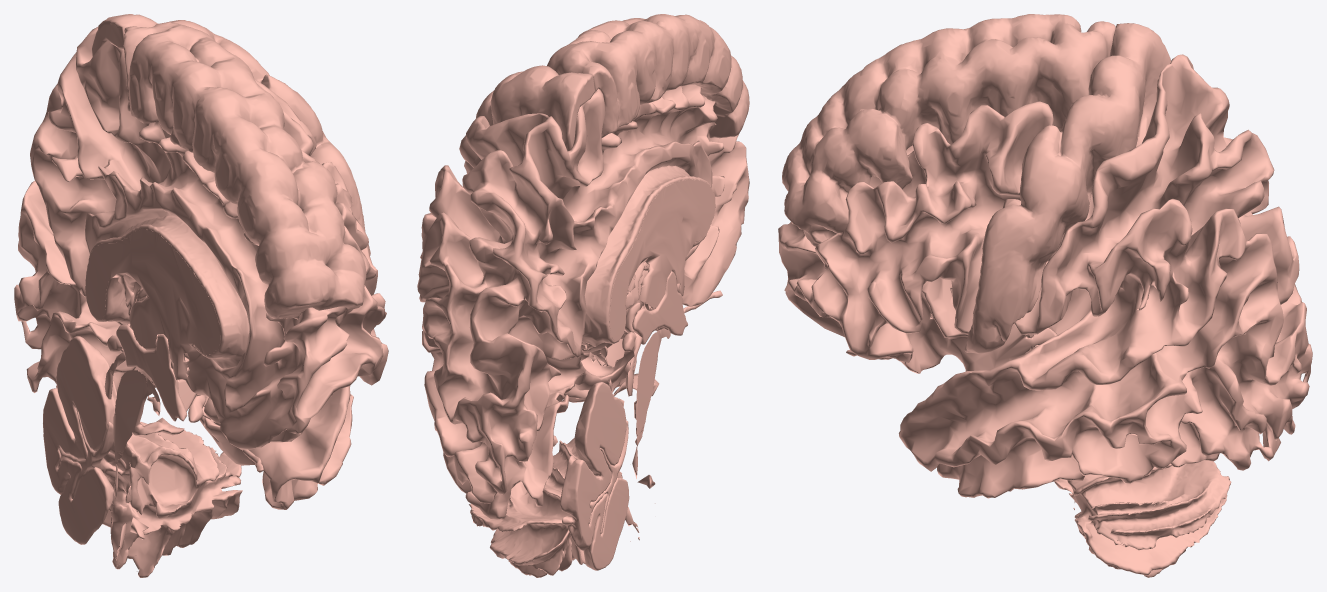
Rendered from female-a-organ-4.glb.
The picture shows the model from 3 angles, left to right: view 1: azimuth 30°, elevation 25°; view 2: azimuth 150°, elevation 25°; view 3: azimuth 270°, elevation 25°; orthographic projection. The views are drawn at different scales.
Parts seen in each view (by area): view 1: Allen_white_matter_of_forebrain_R, Allen_superior_frontal_gyrus_R, Allen_white_matter_of_hindbrain_R, Allen_cerebellar_vermis_R, Allen_corpus_callosum_R, Allen_precentral_gyrus_R, Allen_third_ventricle_R; view 2: Allen_white_matter_of_forebrain_R, Allen_superior_frontal_gyrus_R, Allen_cerebellar_vermis_R, Allen_white_matter_of_hindbrain_R, Allen_precentral_gyrus_R, Allen_corpus_callosum_R, Allen_third_ventricle_R, Allen_thalamus_R; view 3: Allen_white_matter_of_forebrain_R, Allen_superior_frontal_gyrus_R, Allen_precentral_gyrus_R, Allen_white_matter_of_hindbrain_R.
Boxes of the visible parts, x1,y1,x2,y2 form: Allen_white_matter_of_forebrain_R: [14, 27, 388, 571]; Allen_superior_frontal_gyrus_R: [123, 22, 366, 326]; Allen_white_matter_of_hindbrain_R: [57, 409, 242, 577]; Allen_cerebellar_vermis_R: [43, 336, 116, 544]; Allen_corpus_callosum_R: [90, 215, 249, 368]; Allen_precentral_gyrus_R: [92, 14, 365, 231]; Allen_third_ventricle_R: [116, 324, 186, 421]; Allen_white_matter_of_forebrain_R: [417, 84, 749, 541]; Allen_superior_frontal_gyrus_R: [547, 14, 749, 138]; Allen_cerebellar_vermis_R: [560, 382, 629, 570]; Allen_white_matter_of_hindbrain_R: [469, 420, 628, 577]; Allen_precentral_gyrus_R: [476, 65, 595, 151]; Allen_corpus_callosum_R: [582, 165, 712, 346]; Allen_third_ventricle_R: [632, 271, 687, 344]; Allen_thalamus_R: [581, 262, 647, 353]; Allen_white_matter_of_forebrain_R: [778, 54, 1312, 509]; Allen_superior_frontal_gyrus_R: [782, 14, 1115, 246]; Allen_precentral_gyrus_R: [964, 23, 1171, 353]; Allen_white_matter_of_hindbrain_R: [1054, 460, 1231, 577].
Bounding box in the file's own units: 0.0564 × 0.1419 × 0.1275.
